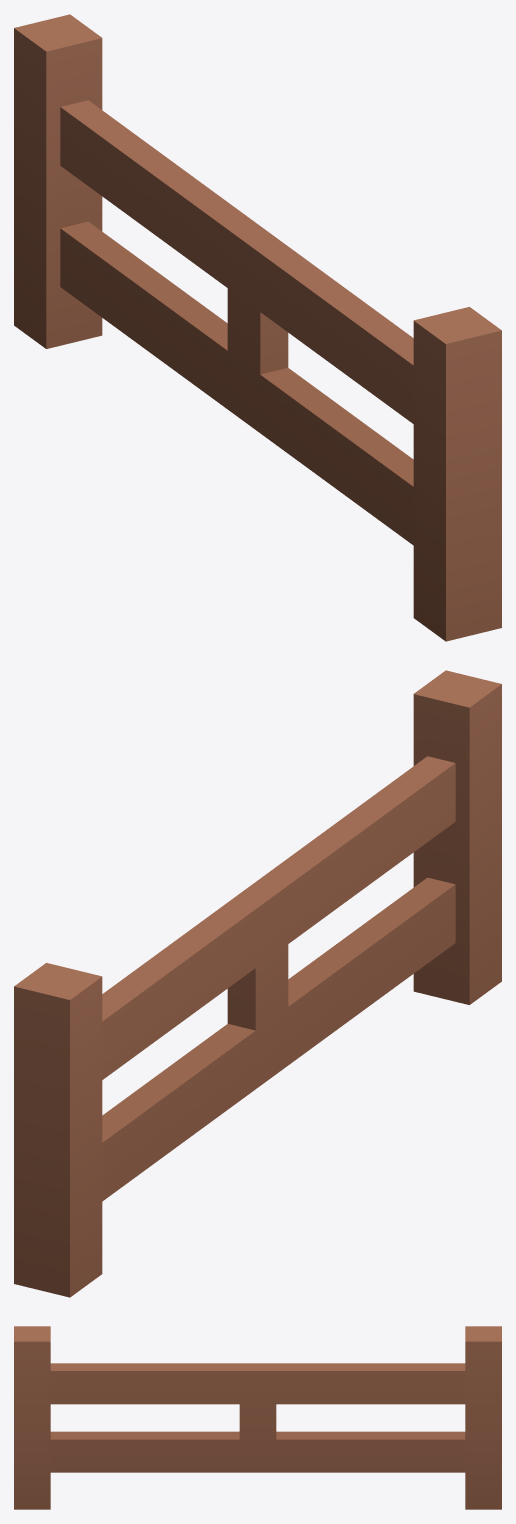
File: town-fence.glb
The picture shows the model from 3 angles, top to bottom: view 1: azimuth 30°, elevation 25°; view 2: azimuth 150°, elevation 25°; view 3: azimuth 270°, elevation 25°; orthographic projection. The views are drawn at different scales.
Parts seen in each view (by area): view 1: town-fence; view 2: town-fence; view 3: town-fence.
Part boxes in pixels (<box>): town-fence: <box>14,14,501,641</box>; town-fence: <box>14,670,501,1297</box>; town-fence: <box>14,1326,501,1509</box>.
Size of the model in its own units: 0.075 by 0.38 by 1.
